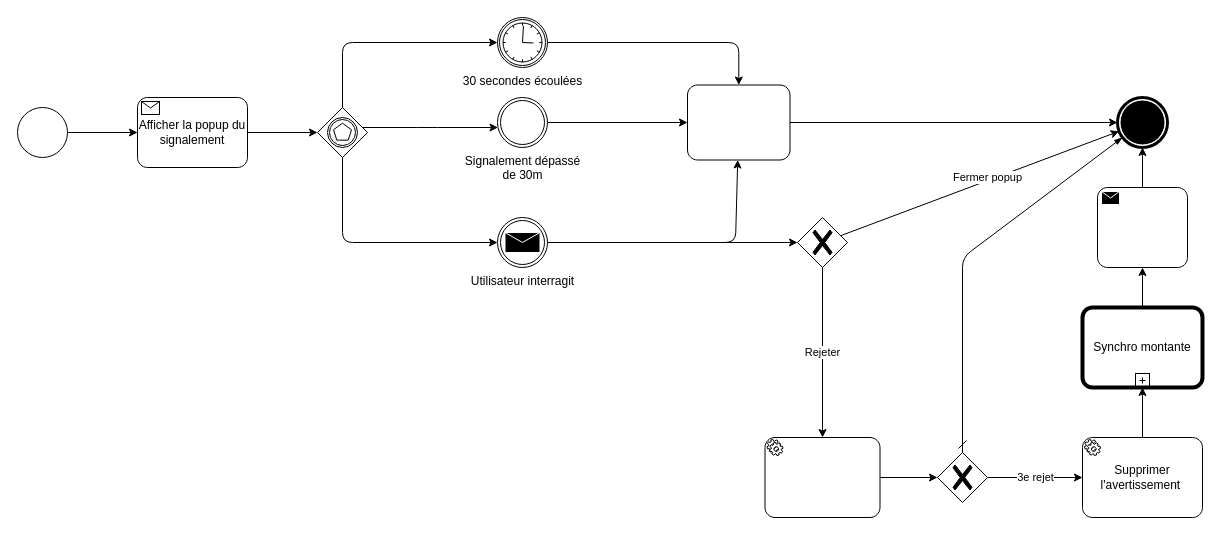
Some shapes in this 1220 by 535 pixel diagram are drawn without their labels. The shapes that lost their labels are listed below. From the top down, each one's box as (x1, y1, x2, y2) in pixels, then its label:
(686, 84, 790, 160): Effacer la pop-up
(1096, 186, 1188, 268): Informer un modérateur
(764, 436, 880, 518): Compatabiliser le rejet
